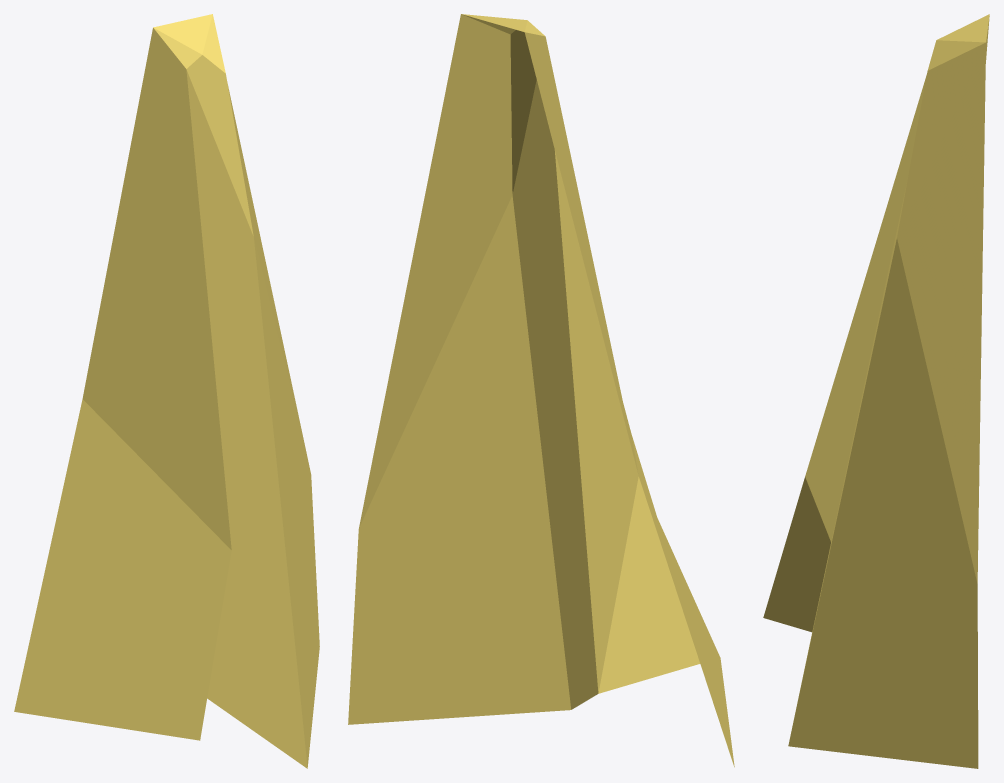
File: Towel_6.fbx
3 renders of one model, left to right at view 1: azimuth 30°, elevation 25°; view 2: azimuth 150°, elevation 25°; view 3: azimuth 270°, elevation 25°, orthographic. The views are drawn at different scales.
Visible parts, largest first — view 1: Towel_6; view 2: Towel_6; view 3: Towel_6.
Part boxes in pixels (x1,y1,x2,y2): Towel_6: (14,14,319,768); Towel_6: (348,14,734,767); Towel_6: (763,14,989,768).
Size of the model in its own units: 36.27 by 21.36 by 73.31.
